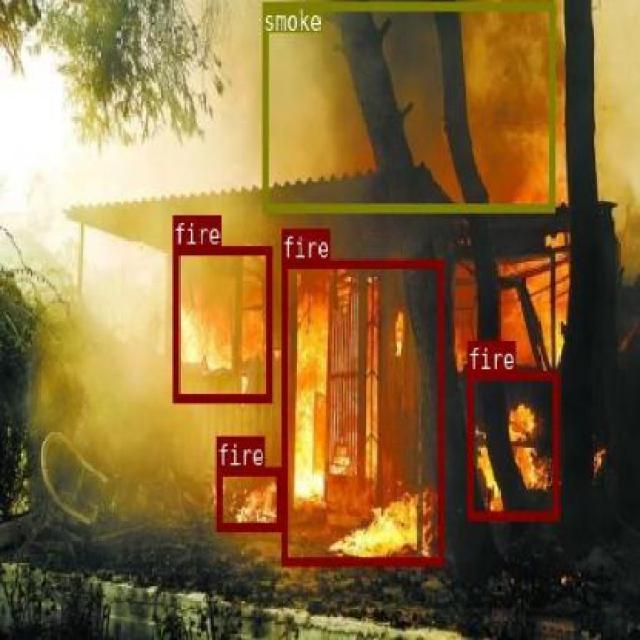fire: (281, 258, 442, 564), (172, 245, 270, 400), (466, 371, 557, 517), (216, 464, 282, 530)
smoke: (261, 2, 554, 210)
